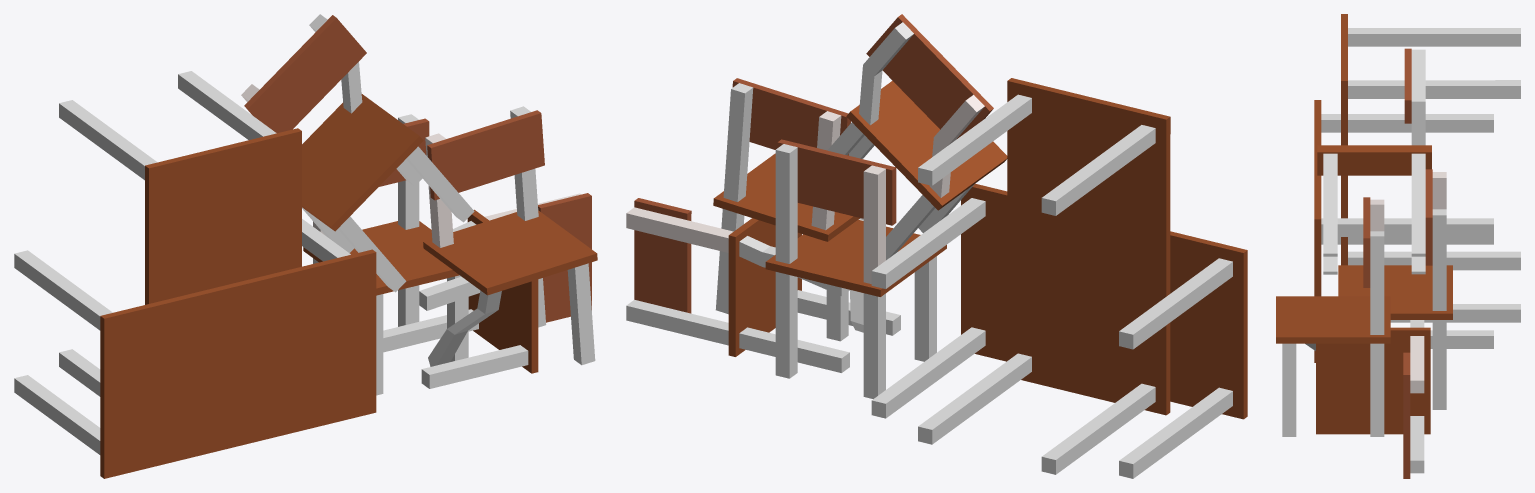
The model's file is tablesAndChairs.fbx.
The picture shows the model from 3 angles, left to right: view 1: azimuth 30°, elevation 25°; view 2: azimuth 150°, elevation 25°; view 3: azimuth 270°, elevation 25°; orthographic projection. The views are drawn at different scales.
Parts seen in each view (by area): view 1: Cube.016, Cube.025, Cube.033, Cube.026, Cube.036, Cube.029, Cube.008, Cube.007, Cube.011, Cube.020, Cube.024, Cube.013 (+18 smaller); view 2: Cube.025, Cube.016, Cube.033, Cube.036, Cube.004, Cube.011, Cube.008, Cube.007, Cube.029, Cube.026, Cube.017, Cube.019 (+23 smaller); view 3: Cube.008, Cube.026, Cube.007, Cube.024, Cube.033, Cube.022, Cube.020, Cube.021, Cube.017, Cube.028, Cube.038, Cube.037 (+20 smaller).
Part boxes in pixels (x1,y1,x2,y2): Cube.016: (100, 249, 376, 478); Cube.025: (145, 128, 301, 304); Cube.033: (302, 94, 423, 231); Cube.026: (423, 210, 597, 295); Cube.036: (244, 15, 366, 133); Cube.029: (427, 110, 544, 200); Cube.008: (467, 209, 538, 373); Cube.007: (303, 221, 459, 295); Cube.011: (538, 193, 591, 322); Cube.020: (14, 250, 112, 330); Cube.024: (59, 100, 157, 180); Cube.013: (421, 345, 528, 388); Cube.025: (1007, 78, 1170, 415); Cube.016: (961, 183, 1247, 419); Cube.033: (846, 81, 1007, 210); Cube.036: (866, 14, 993, 139); Cube.004: (777, 139, 896, 225); Cube.011: (634, 198, 691, 313); Cube.008: (728, 218, 801, 356); Cube.007: (765, 219, 946, 296); Cube.029: (732, 78, 850, 155); Cube.026: (713, 153, 860, 241); Cube.017: (871, 198, 985, 288); Cube.019: (871, 327, 985, 418); Cube.008: (1316, 327, 1430, 434); Cube.026: (1276, 296, 1390, 343); Cube.007: (1338, 265, 1452, 319); Cube.024: (1348, 28, 1520, 46); Cube.033: (1317, 145, 1431, 175); Cube.022: (1348, 80, 1520, 98); Cube.020: (1321, 114, 1493, 132); Cube.021: (1348, 251, 1520, 270); Cube.017: (1321, 218, 1493, 236); Cube.028: (1370, 231, 1384, 334); Cube.038: (1323, 153, 1337, 256); Cube.037: (1411, 153, 1425, 256).
Bounding box in the file's own units: 316 × 200 × 139.
